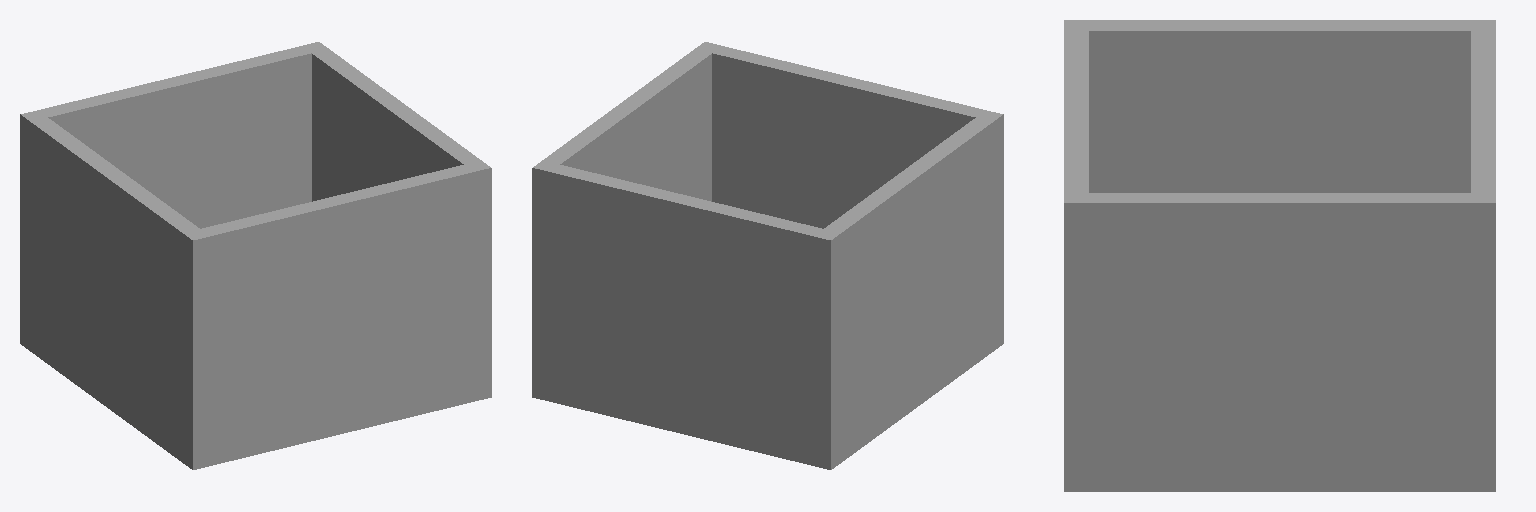
The robot description file, URDF, robot "box_light":
<?xml version="1.0"?>
<robot name="box_light">
  
  <!-- Bottom of the box -->
  <link name="box_bottom">
    <visual>
      <geometry>
        <box size="0.3 0.3 0.02"/>  <!-- 30cm x 30cm, 2cm thick -->
      </geometry>
      <origin xyz="0 0 0.01"/>
      <material name="gray">
        <color rgba="0.7 0.7 0.7 1"/>
      </material>
    </visual>
    
    <collision>
      <geometry>
        <box size="0.3 0.3 0.02"/>  <!-- 30cm x 30cm collision box -->
      </geometry>
      <origin xyz="0 0 0.01"/>
    </collision>
  </link>

  <!-- Walls of the box -->

  <!-- Front Wall -->
  <link name="box_wall_front">
    <visual>
      <geometry>
        <box size="0.3 0.02 0.25"/>  <!-- Wall thickness 2cm, 30cm height -->
      </geometry>
      <origin xyz="0 0.16 0.125"/>
      <material name="gray">
        <color rgba="0.7 0.7 0.7 1"/>
      </material>
    </visual>
    
    <collision>
      <geometry>
        <box size="0.3 0.02 0.25"/>  <!-- Wall thickness 2cm, 30cm height -->
      </geometry>
      <origin xyz="0 0.16 0.125"/>
    </collision>
  </link>

  <!-- Back Wall -->
  <link name="box_wall_back">
    <visual>
      <geometry>
        <box size="0.3 0.02 0.25"/>
      </geometry>
      <origin xyz="0 -0.16 0.125"/>
      <material name="gray">
        <color rgba="0.7 0.7 0.7 1"/>
      </material>
    </visual>
    
    <collision>
      <geometry>
        <box size="0.3 0.02 0.25"/>
      </geometry>
      <origin xyz="0 -0.16 0.125"/>
    </collision>
  </link>

  <!-- Left Wall -->
  <link name="box_wall_left">
    <visual>
      <geometry>
        <box size="0.02 0.34 0.25"/>  <!-- 2cm thick, 30cm height -->
      </geometry>
      <origin xyz="-0.16 0 0.125"/>
      <material name="gray">
        <color rgba="0.7 0.7 0.7 1"/>
      </material>
    </visual>
    
    <collision>
      <geometry>
        <box size="0.02 0.34 0.25"/>
      </geometry>
      <origin xyz="-0.16 0 0.125"/>
    </collision>
  </link>

  <!-- Right Wall -->
  <link name="box_wall_right">
    <visual>
      <geometry>
        <box size="0.02 0.34 0.25"/>
      </geometry>
      <origin xyz="0.16 0 0.125"/>
      <material name="gray">
        <color rgba="0.7 0.7 0.7 1"/>
      </material>
    </visual>
    
    <collision>
      <geometry>
        <box size="0.02 0.34 0.25"/>
      </geometry>
      <origin xyz="0.16 0 0.125"/>
    </collision>
  </link>

  <!-- Trigger collider on the bottom (for detection) -->


  <!-- Fixed Joints -->
  <joint name="joint_bottom_front" type="fixed">
    <parent link="box_bottom"/>
    <child link="box_wall_front"/>
    <origin xyz="0 0 0"/>
  </joint>

  <joint name="joint_bottom_back" type="fixed">
    <parent link="box_bottom"/>
    <child link="box_wall_back"/>
    <origin xyz="0 0 0"/>
  </joint>

  <joint name="joint_bottom_left" type="fixed">
    <parent link="box_bottom"/>
    <child link="box_wall_left"/>
    <origin xyz="0 0 0"/>
  </joint>

  <joint name="joint_bottom_right" type="fixed">
    <parent link="box_bottom"/>
    <child link="box_wall_right"/>
    <origin xyz="0 0 0"/>
  </joint>

</robot>

--- What the picture shows (computed from the rendered views, not written in the file) ---
The picture shows the robot from 3 angles, left to right: view 1: azimuth 30°, elevation 25°; view 2: azimuth 150°, elevation 25°; view 3: azimuth 270°, elevation 25°; orthographic projection.
Robot: box_light — 5 links, 4 joints (4 fixed); root link box_bottom; default pose: all joints at 0.
Visible links, largest first — view 1: box_wall_back, box_wall_left, box_wall_front, box_wall_right; view 2: box_wall_front, box_wall_left, box_wall_back, box_wall_right; view 3: box_wall_right, box_wall_left, box_wall_front, box_wall_back.
Link boxes in pixels (x1,y1,x2,y2): box_wall_back: (201,165,473,465); box_wall_left: (20,110,209,469); box_wall_front: (39,46,311,228); box_wall_right: (302,42,491,401); box_wall_front: (550,165,822,465); box_wall_left: (814,110,1003,469); box_wall_back: (712,46,984,228); box_wall_right: (532,42,721,401); box_wall_right: (1064,193,1495,491); box_wall_left: (1064,20,1495,192); box_wall_front: (1471,31,1495,192); box_wall_back: (1064,31,1088,192).
Size in the robot's own frame: 0.34 by 0.34 by 0.25 metres.
Geometry: primitives only (box / cylinder / sphere), no mesh files.
